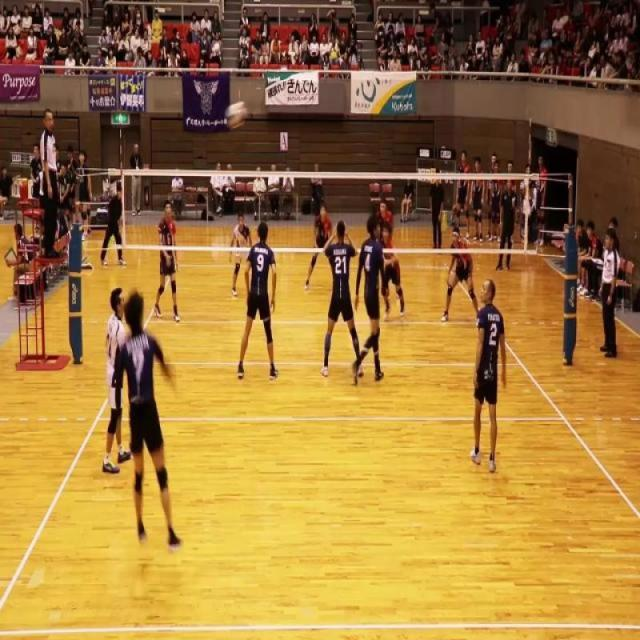volleyball: (225, 100, 249, 131)
